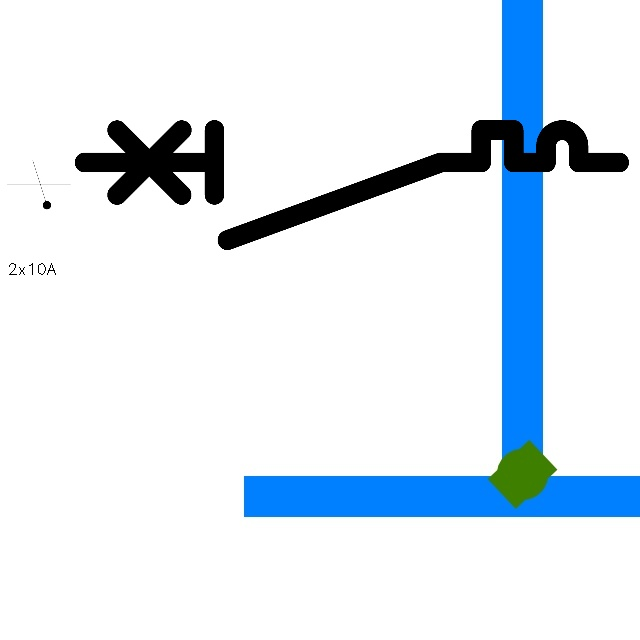interruptor_termomagnetico: (70, 116, 633, 253)
